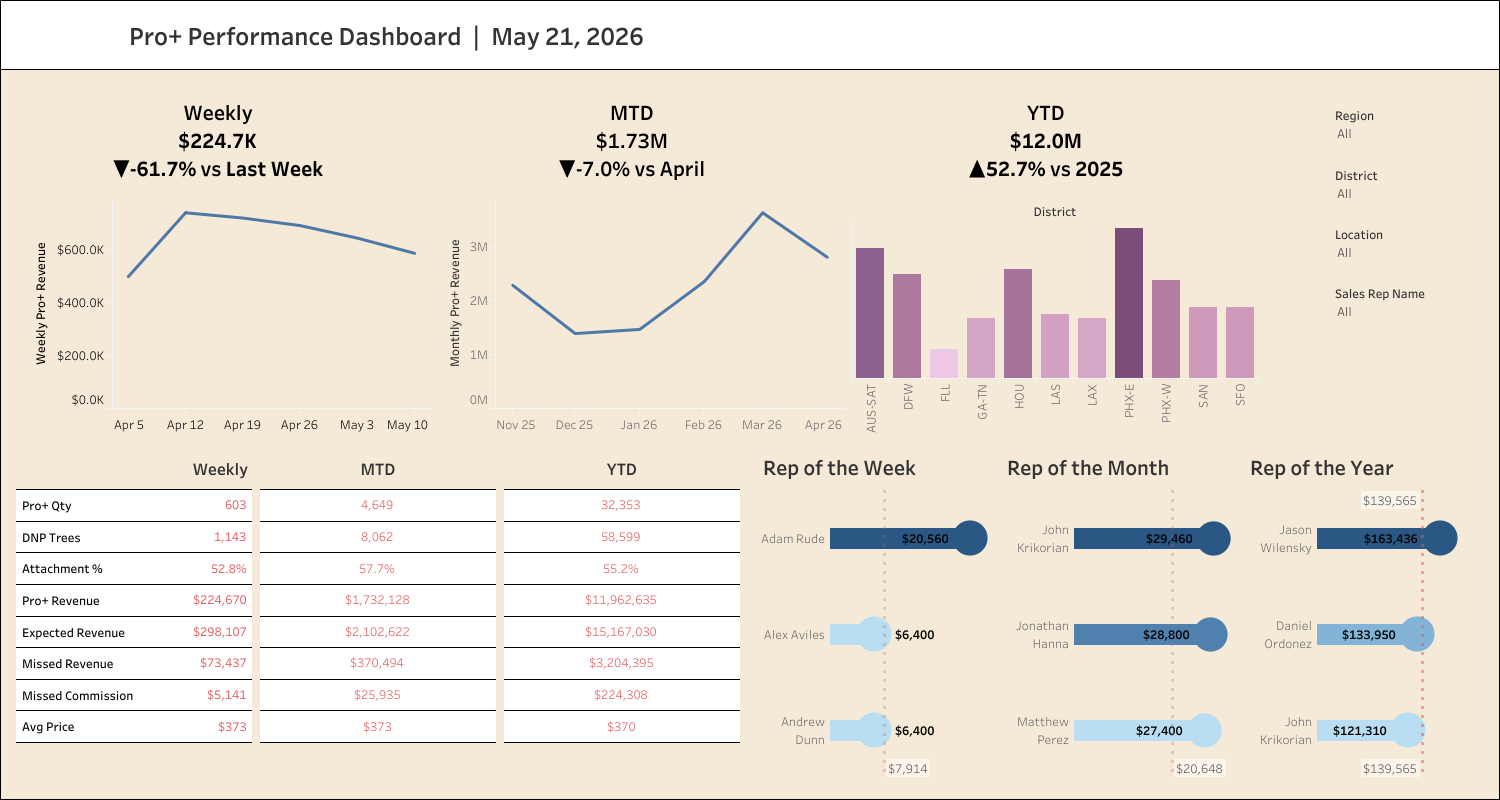

The page's visual inventory and layout, read from the dashboard file:
{"tool":"tableau","page":{"name":"Pro+ Dash","canvas":[1500,800],"ordinal":0},"visuals":[{"type":"image","param":"Image/mvnlogo.webp","box":[0,0,120,70]},{"type":"worksheet","title":"Dashboard Title","mark":"Text","rows":["Calculation_0014091221725216"],"box":[120,0,1380,70]},{"type":"worksheet","title":"Weekly KPI","mark":"Automatic","box":[20,88,414,99]},{"type":"worksheet","title":"MTD KPI","mark":"Automatic","box":[434,88,414,97]},{"type":"worksheet","title":"YTD KPI","mark":"Automatic","box":[848,88,414,99]},{"type":"filter","title":"MTD","param":"[sqlproxy.071m9ym02l6rqm0zlif2f087p6ab].[none:region:nk]","box":[1331,101,160,60]},{"type":"filter","title":"MTD","param":"[sqlproxy.071m9ym02l6rqm0zlif2f087p6ab].[none:district:nk]","box":[1331,161,160,59]},{"type":"worksheet","title":"Weekly Chart","mark":"Automatic","rows":["Calculation_0013885447106573"],"cols":["Date (copy)_0833156963381248"],"box":[20,197,414,245]},{"type":"worksheet","title":"Monthly Chart","mark":"Automatic","rows":["Calculation_0013885434605573"],"cols":["date_dt"],"box":[434,197,414,245]},{"type":"worksheet","title":"YTD Chart","mark":"Automatic","rows":["Calculation_0014022215200785"],"cols":["district"],"box":[848,197,414,245]},{"type":"filter","title":"MTD","param":"[sqlproxy.071m9ym02l6rqm0zlif2f087p6ab].[none:location:nk]","box":[1331,220,160,59]},{"type":"filter","title":"MTD","param":"[sqlproxy.071m9ym02l6rqm0zlif2f087p6ab].[none:sales_rep_name:nk]","box":[1331,279,160,59]},{"type":"worksheet","title":"Rep of the Week","mark":"Automatic","rows":["sales_rep_name"],"cols":["Calculation_0014090890489910","Calculation_0014090890489910"],"box":[755,443,244,339]},{"type":"worksheet","title":"Rep of the Month","mark":"Bar","rows":["sales_rep_name"],"cols":["Calculation_0014090875813929","Calculation_0014090875813929"],"box":[999,443,243,339]},{"type":"worksheet","title":"Rep of the Year","mark":"Circle","rows":["sales_rep_name"],"cols":["Calculation_0014022215200785","Calculation_0014022215200785"],"box":[1242,443,243,339]},{"type":"worksheet","title":"Weekly","mark":"Text","box":[12,447,244,300]},{"type":"worksheet","title":"MTD","mark":"Automatic","box":[256,447,244,300]},{"type":"worksheet","title":"YTD","mark":"Automatic","box":[500,447,244,300]}]}

Visuals, with their boxes in screenshot pixels (x1, y1, x2, y2), scaled from the page's 1500x800 canvas onto the 1500x800 screenshot:
image: BBox(0, 0, 120, 70)
"Dashboard Title" worksheet (Text marks): BBox(120, 0, 1499, 70)
"Weekly KPI" worksheet: BBox(20, 88, 434, 187)
"MTD KPI" worksheet: BBox(434, 88, 848, 185)
"YTD KPI" worksheet: BBox(848, 88, 1262, 187)
"MTD" filter: BBox(1331, 101, 1491, 161)
"MTD" filter: BBox(1331, 161, 1491, 220)
"Weekly Chart" worksheet: BBox(20, 197, 434, 442)
"Monthly Chart" worksheet: BBox(434, 197, 848, 442)
"YTD Chart" worksheet: BBox(848, 197, 1262, 442)
"MTD" filter: BBox(1331, 220, 1491, 279)
"MTD" filter: BBox(1331, 279, 1491, 338)
"Rep of the Week" worksheet: BBox(755, 443, 999, 782)
"Rep of the Month" worksheet (Bar marks): BBox(999, 443, 1242, 782)
"Rep of the Year" worksheet (Circle marks): BBox(1242, 443, 1485, 782)
"Weekly" worksheet (Text marks): BBox(12, 447, 256, 747)
"MTD" worksheet: BBox(256, 447, 500, 747)
"YTD" worksheet: BBox(500, 447, 744, 747)
